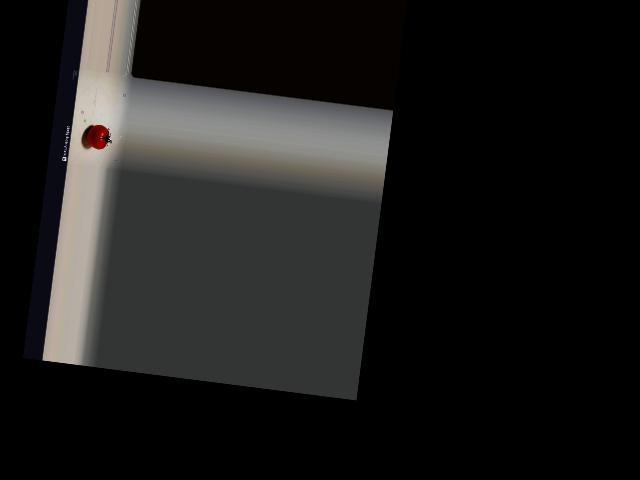tomato: (85, 123, 109, 149)
